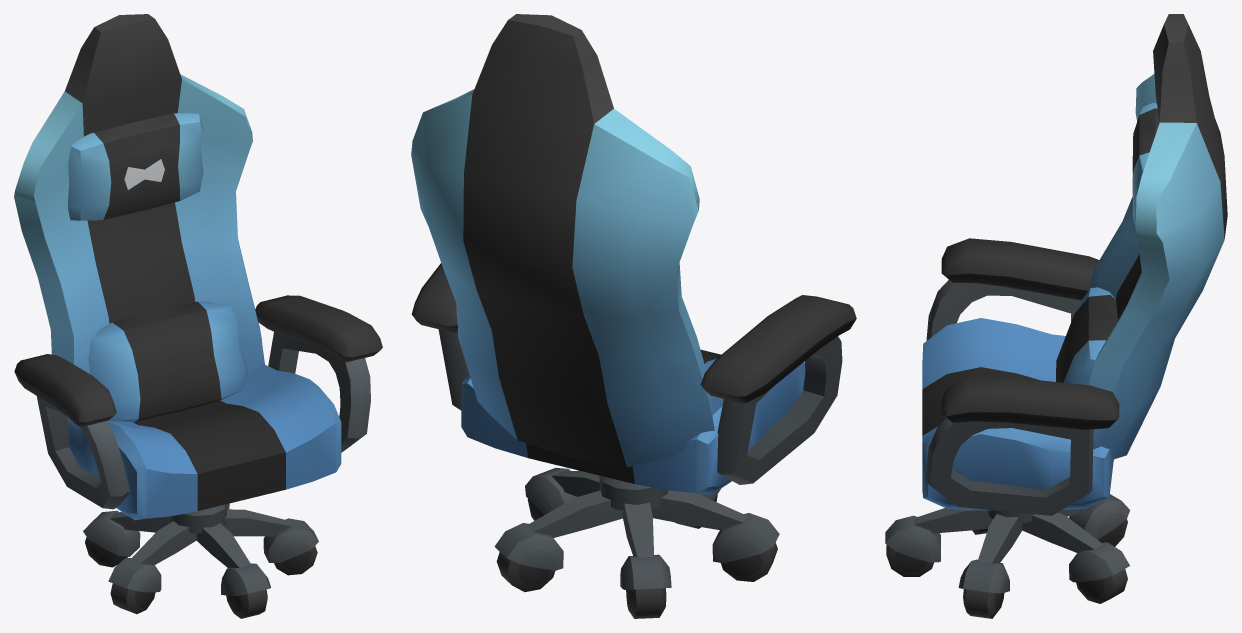
File: gamer_chair_A.gltf
3 views of the same model, side by side, from view 1: azimuth 30°, elevation 25°; view 2: azimuth 150°, elevation 25°; view 3: azimuth 270°, elevation 25° (orthographic). The views are drawn at different scales.
Visible parts, largest first — view 1: chair_top_A, gamer_chair_A; view 2: chair_top_A, gamer_chair_A; view 3: chair_top_A, gamer_chair_A.
Boxes of the visible parts, box(x1,y1,x2,y2) form: chair_top_A: box(14, 14, 382, 520); gamer_chair_A: box(83, 503, 318, 618); chair_top_A: box(411, 14, 856, 494); gamer_chair_A: box(494, 467, 779, 618); chair_top_A: box(922, 14, 1227, 515); gamer_chair_A: box(885, 494, 1129, 618).
Bounding box in the file's own units: 1.1 × 1.73 × 0.9818.
Materials: 1 (1 with a texture image).
